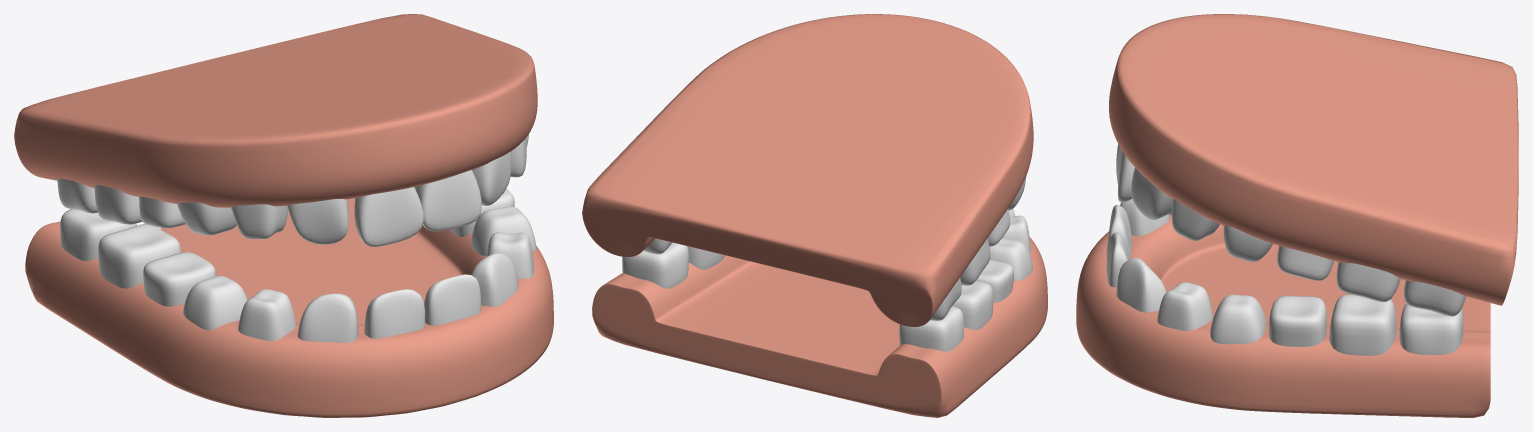
The model's file is uploads_files_4880030_Cartoon_Teeth_3D_Model (1).fbx.
3 views of the same model, side by side, from view 1: azimuth 30°, elevation 25°; view 2: azimuth 150°, elevation 25°; view 3: azimuth 270°, elevation 25° (orthographic). The views are drawn at different scales.
Parts seen in each view (by area): view 1: Torus.001, Torus, Cube.006, Cube.001; view 2: Torus.001, Torus, Cube.006, Cube.001; view 3: Torus.001, Torus, Cube.006, Cube.001.
Boxes of the visible parts, x1,y1,x2,y2 form: Torus.001: (14, 14, 537, 207); Torus: (25, 198, 553, 417); Cube.006: (60, 186, 536, 342); Cube.001: (57, 134, 528, 246); Torus.001: (582, 14, 1033, 326); Torus: (592, 237, 1047, 417); Cube.006: (622, 209, 1032, 351); Cube.001: (643, 176, 1026, 320); Torus.001: (1108, 14, 1518, 305); Torus: (1076, 214, 1490, 417); Cube.006: (1106, 199, 1463, 355); Cube.001: (1116, 144, 1466, 316).
Bounding box in the file's own units: 269 × 174 × 266.
